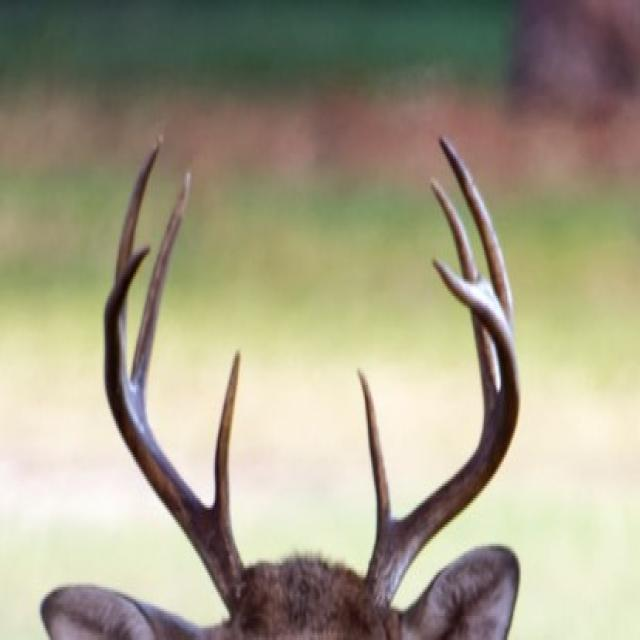L-F: (365, 256, 522, 606)
L-G1: (356, 368, 392, 532)
R-F: (103, 240, 248, 618)
R-G1: (214, 346, 242, 527)
R-G2: (130, 170, 193, 409)
